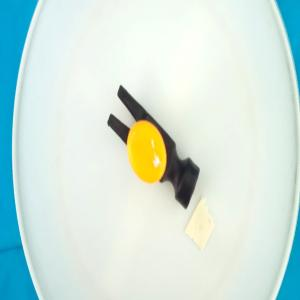martelo: (106, 82, 201, 210)
